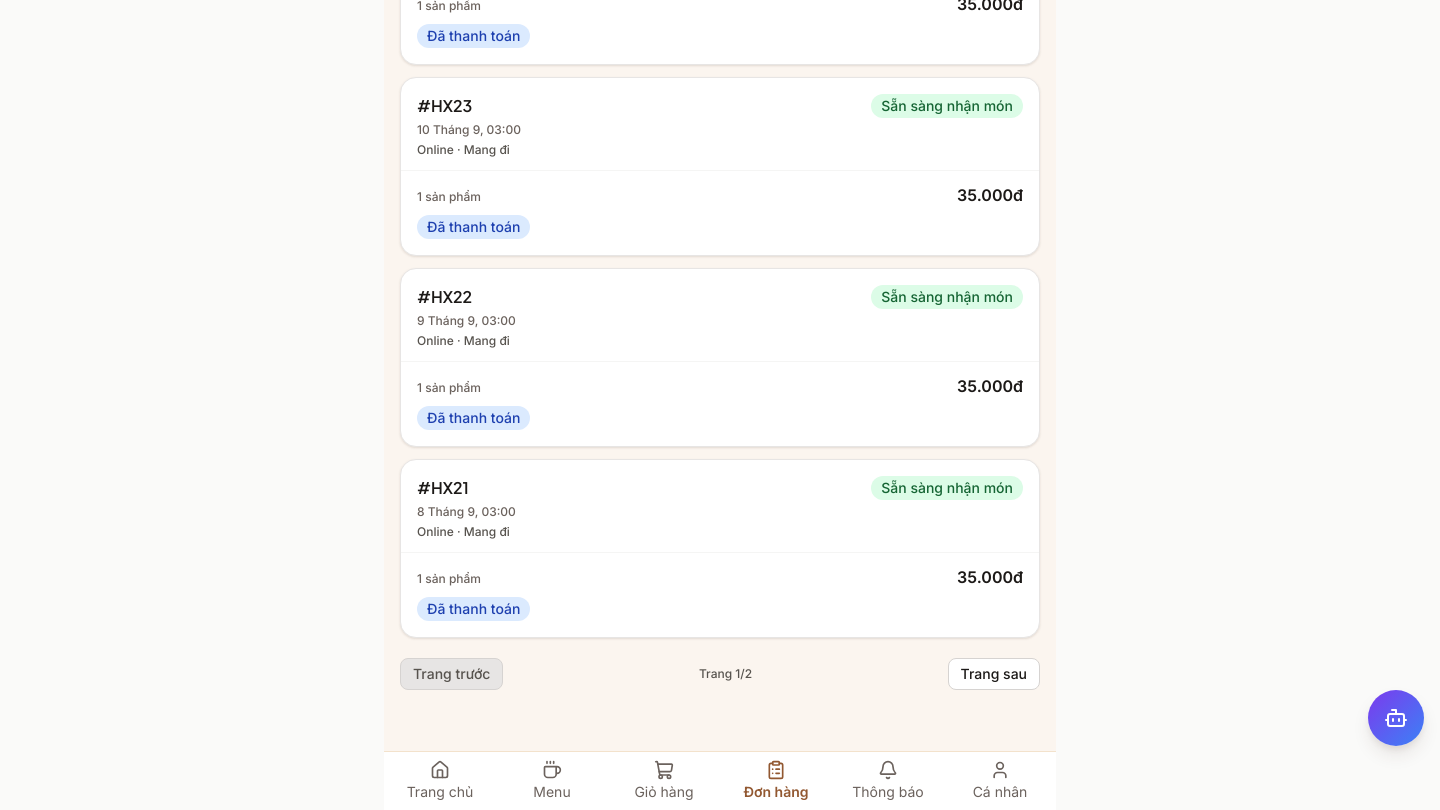
Test case: /orders — phân trang bằng meta của API › hai trang cộng lại đủ đúng toàn bộ đơn của khách, mới nhất trước
(page scrolled)
Click the button "Trang sau". click: (994, 674)
box: [948,658,1040,690]
(page scrolled)
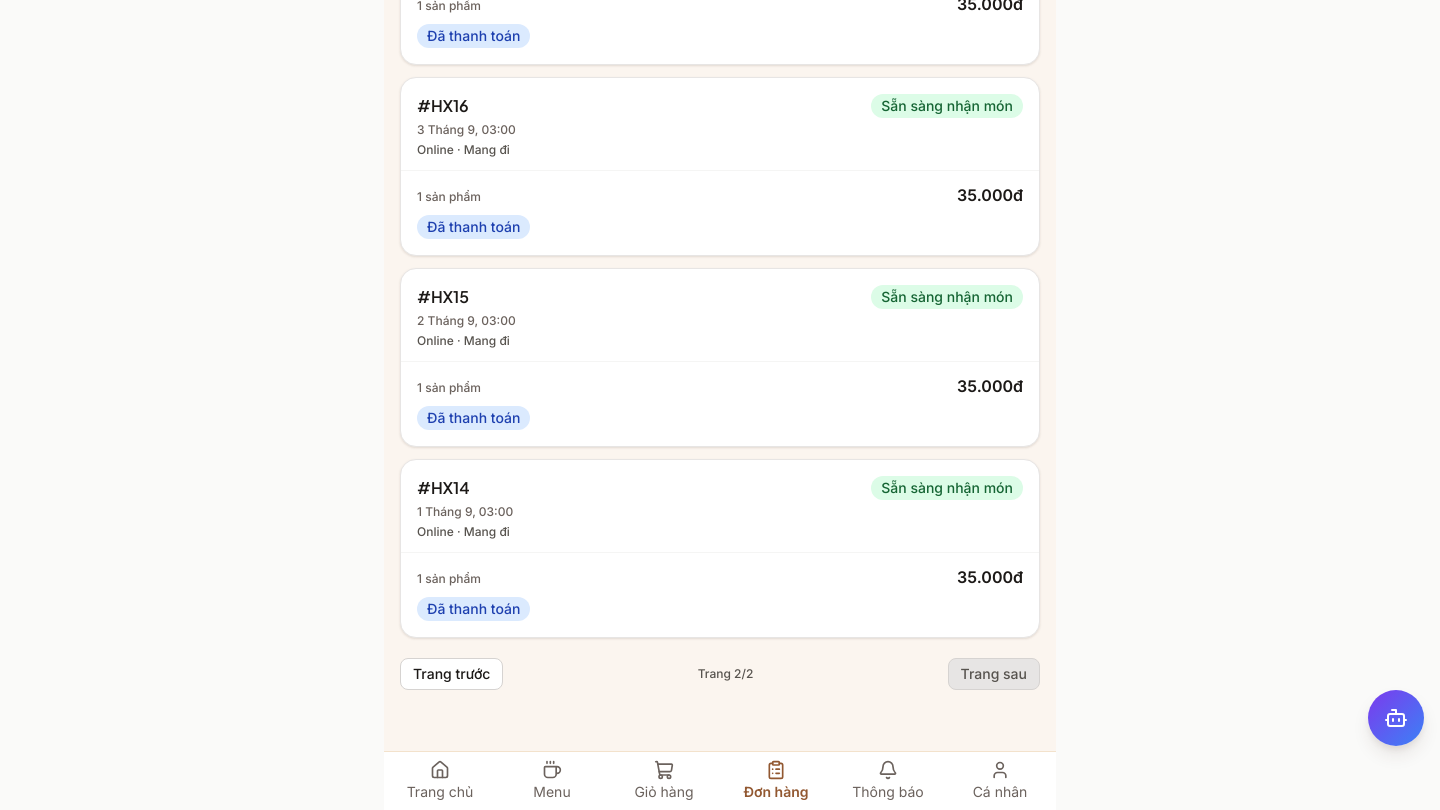
Expected: the text "Trang 2/2" is shown, [698,666,753,682]
